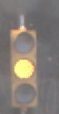Yellow: (8, 18, 46, 113)
